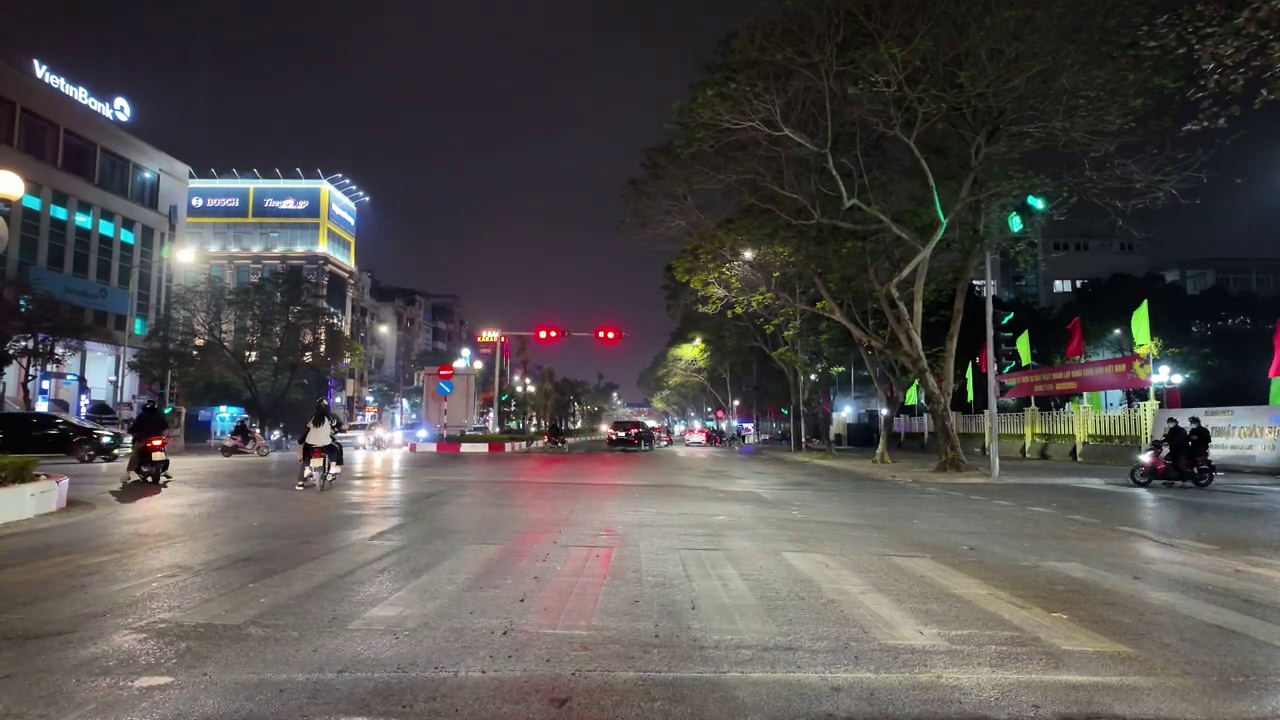acesa: (170, 242, 202, 268), (595, 323, 622, 348), (0, 169, 20, 200), (373, 322, 395, 344)
